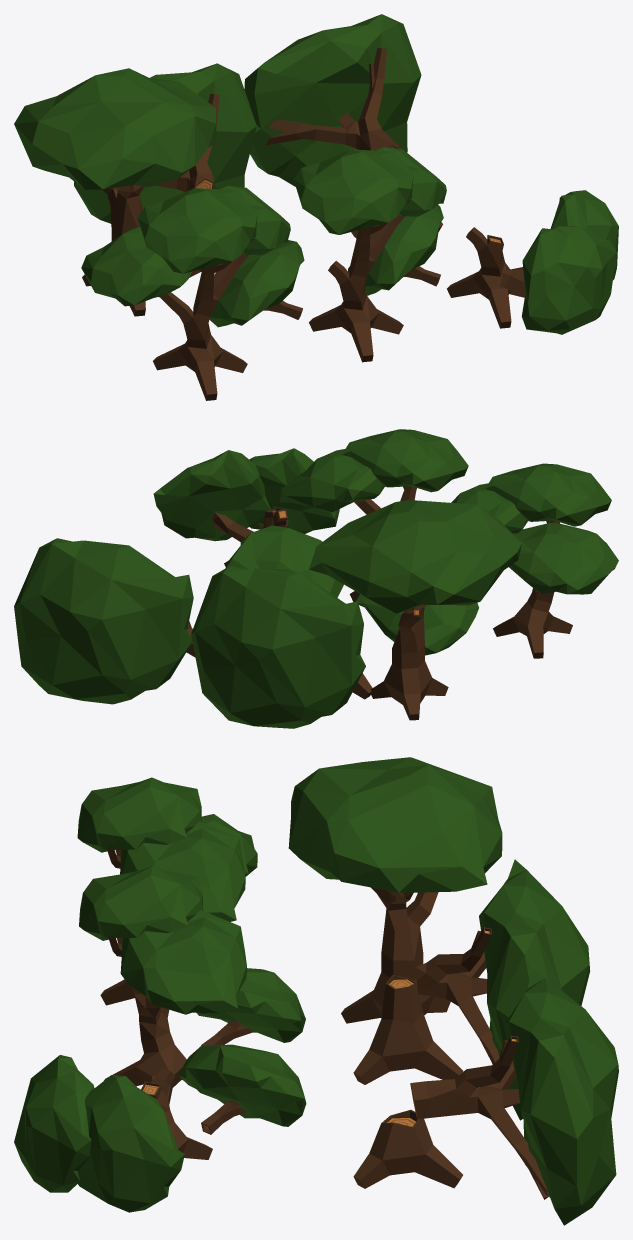
The model's file is Дерева.fbx.
3 renders of one model, top to bottom at view 1: azimuth 30°, elevation 25°; view 2: azimuth 150°, elevation 25°; view 3: azimuth 270°, elevation 25°, orthographic. The views are drawn at different scales.
Parts seen in each view (by area): view 1: Плоскость.001, Плоскость, Куб.002, Куб.003, Куб.004, Плоскость.003; view 2: Плоскость.001, Плоскость.003, Плоскость, Куб.002, Куб.004, Куб.003; view 3: Плоскость.001, Плоскость, Куб.004, Куб.003, Плоскость.003, Куб.002.
Boxes of the visible parts, left/top/right/bottom form: Плоскость.001: left=244, top=14, right=442, bottom=238; Плоскость: left=14, top=68, right=216, bottom=316; Куб.002: left=81, top=186, right=290, bottom=400; Куб.003: left=209, top=147, right=446, bottom=362; Куб.004: left=348, top=190, right=618, bottom=334; Плоскость.003: left=74, top=63, right=256, bottom=277; Плоскость.001: left=14, top=538, right=195, bottom=704; Плоскость.003: left=191, top=566, right=372, bottom=728; Плоскость: left=309, top=500, right=521, bottom=720; Куб.002: left=451, top=463, right=618, bottom=658; Куб.004: left=153, top=448, right=343, bottom=597; Куб.003: left=279, top=429, right=478, bottom=655; Плоскость.001: left=353, top=969, right=618, bottom=1225; Плоскость: left=288, top=757, right=502, bottom=1023; Куб.004: left=14, top=1044, right=306, bottom=1212; Куб.003: left=79, top=865, right=305, bottom=1104; Плоскость.003: left=353, top=859, right=589, bottom=1120; Куб.002: left=77, top=777, right=257, bottom=1017.
Bounding box in the file's own units: 58785 × 25336 × 52531.
